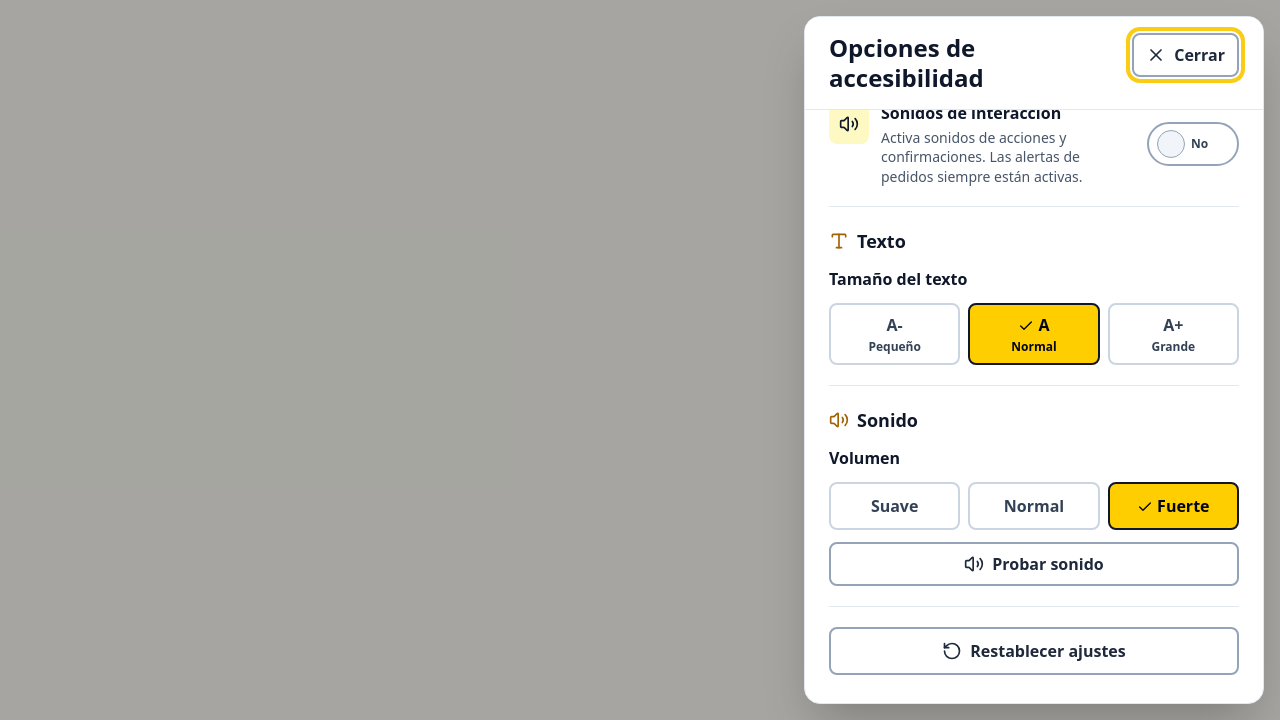
AccessibilityPanel › mantiene la prueba de alertas disponible aunque los sonidos de interacción estén desactivados
The width and height of the screenshot is (1280, 720).
(page scrolled)
Click the button "Probar sonido": (1034, 564) x1=829 y1=542 x2=1239 y2=586
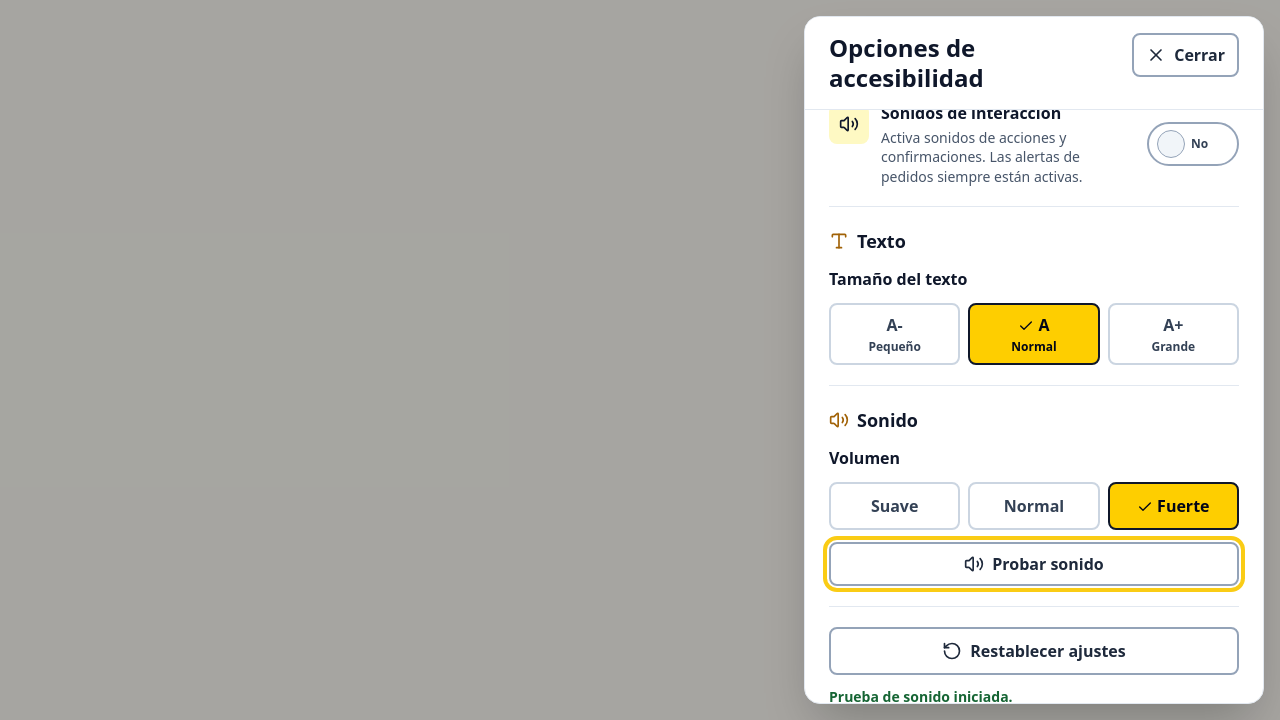
Check: the message reads "Prueba de sonido iniciada.", box x1=829 y1=687 x2=1013 y2=703
